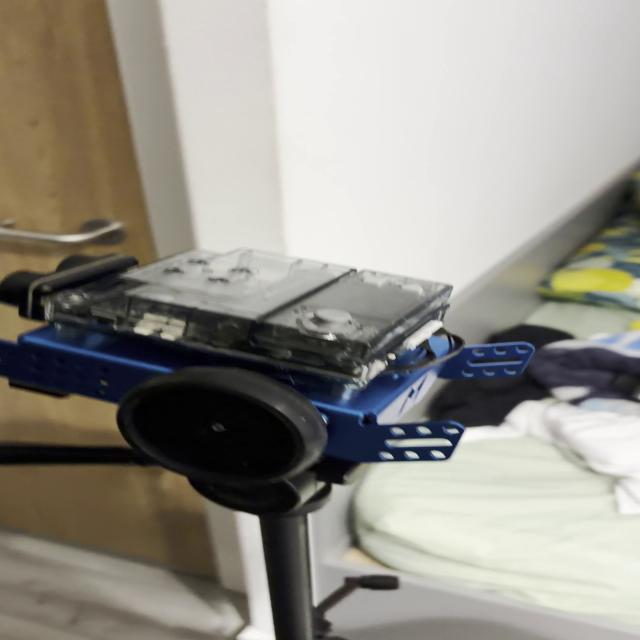mbot-detection: (0, 230, 554, 490)
